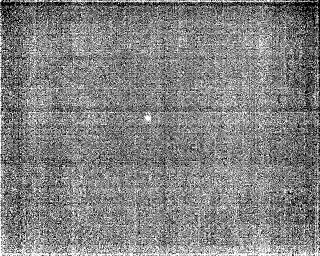BIRD: (143, 112, 153, 124)
